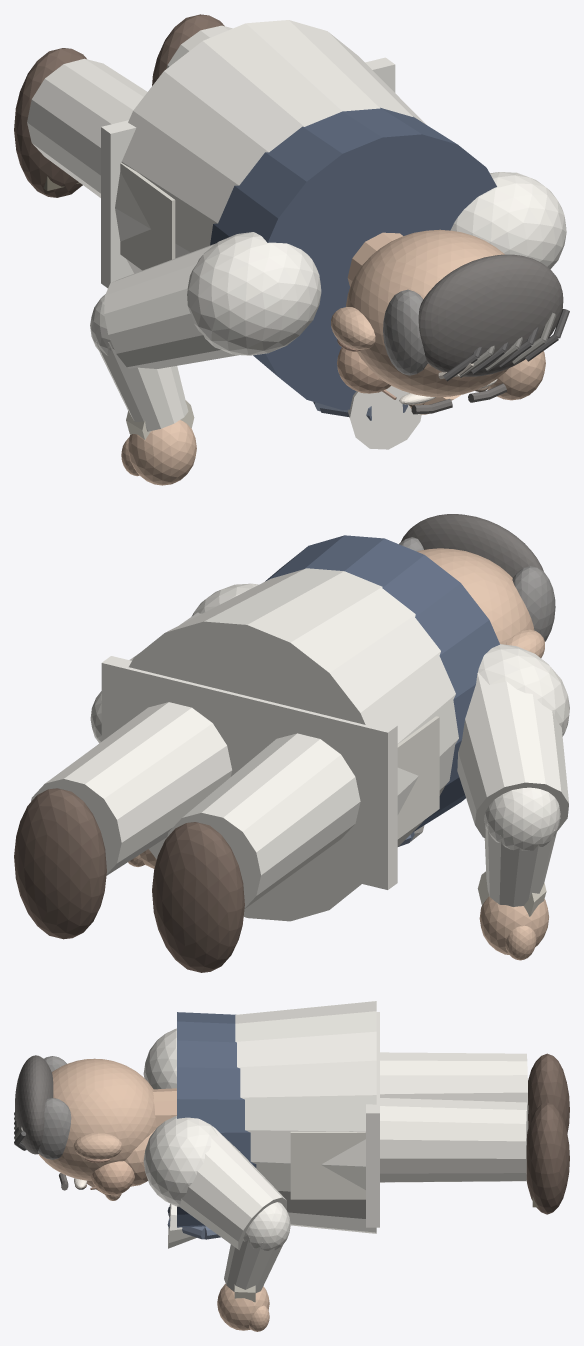
The model's file is nawaz_sharif_fighter_v1.glb.
3 renders of one model, top to bottom at view 1: azimuth 30°, elevation 25°; view 2: azimuth 150°, elevation 25°; view 3: azimuth 270°, elevation 25°, orthographic. The views are drawn at different scales.
Visible parts, largest first — view 1: signature_waistcoat_18, kurta_tunic_14, kurta_shoulder_31, side_combed_hair_72, recognizable_face_head_47, shalwar_leg_2, upper_arm_sleeve_32, kurta_shoulder_38, tunic_hem_15, lower_arm_sleeve_34, Peshawari_chappal_shoe_0, kurta_side_seam_16 (+10 smaller); view 2: kurta_tunic_14, tunic_hem_15, shalwar_leg_9, shalwar_leg_2, signature_waistcoat_18, upper_arm_sleeve_32, Peshawari_chappal_shoe_7, Peshawari_chappal_shoe_0, recognizable_face_head_47, side_combed_hair_72, elbow_fabric_33, kurta_shoulder_31 (+8 smaller); view 3: kurta_tunic_14, shalwar_leg_9, recognizable_face_head_47, signature_waistcoat_18, shalwar_leg_2, upper_arm_sleeve_39, kurta_shoulder_38, kurta_side_seam_17, Peshawari_chappal_shoe_7, side_combed_hair_72, tunic_hem_15, Peshawari_chappal_shoe_0 (+10 smaller).
Part boxes in pixels (x1,y1,x2,y2): signature_waistcoat_18: (210, 107, 496, 410); kurta_tunic_14: (115, 20, 426, 273); kurta_shoulder_31: (187, 232, 321, 355); side_combed_hair_72: (418, 254, 563, 376); recognizable_face_head_47: (346, 229, 508, 397); shalwar_leg_2: (27, 58, 147, 197); upper_arm_sleeve_32: (104, 243, 238, 368); kurta_shoulder_38: (450, 172, 566, 269); tunic_hem_15: (101, 57, 395, 288); lower_arm_sleeve_34: (96, 341, 188, 431); Peshawari_chappal_shoe_0: (14, 48, 86, 197); kurta_side_seam_16: (120, 163, 175, 270); kurta_tunic_14: (129, 568, 458, 921); tunic_hem_15: (101, 656, 397, 889); shalwar_leg_9: (31, 702, 232, 875); shalwar_leg_2: (167, 733, 360, 908); signature_waistcoat_18: (265, 535, 499, 831); upper_arm_sleeve_32: (457, 672, 568, 838); Peshawari_chappal_shoe_7: (14, 788, 106, 939); Peshawari_chappal_shoe_0: (152, 822, 244, 972); recognizable_face_head_47: (417, 548, 534, 644); side_combed_hair_72: (401, 514, 543, 577); elbow_fabric_33: (484, 787, 560, 850); kurta_shoulder_31: (478, 644, 569, 736); kurta_tunic_14: (235, 1001, 376, 1233); shalwar_leg_9: (380, 1098, 528, 1182); recognizable_face_head_47: (38, 1058, 156, 1180); signature_waistcoat_18: (177, 1012, 256, 1227); shalwar_leg_2: (380, 1052, 528, 1113); upper_arm_sleeve_39: (177, 1126, 286, 1250); kurta_shoulder_38: (143, 1116, 217, 1206); kurta_side_seam_17: (290, 1131, 365, 1199); Peshawari_chappal_shoe_7: (526, 1102, 569, 1214); side_combed_hair_72: (15, 1055, 53, 1154); tunic_hem_15: (366, 1012, 379, 1227); Peshawari_chappal_shoe_0: (528, 1053, 569, 1133).
Bounding box in the file's own units: 2.2 × 1.61 × 3.18.
